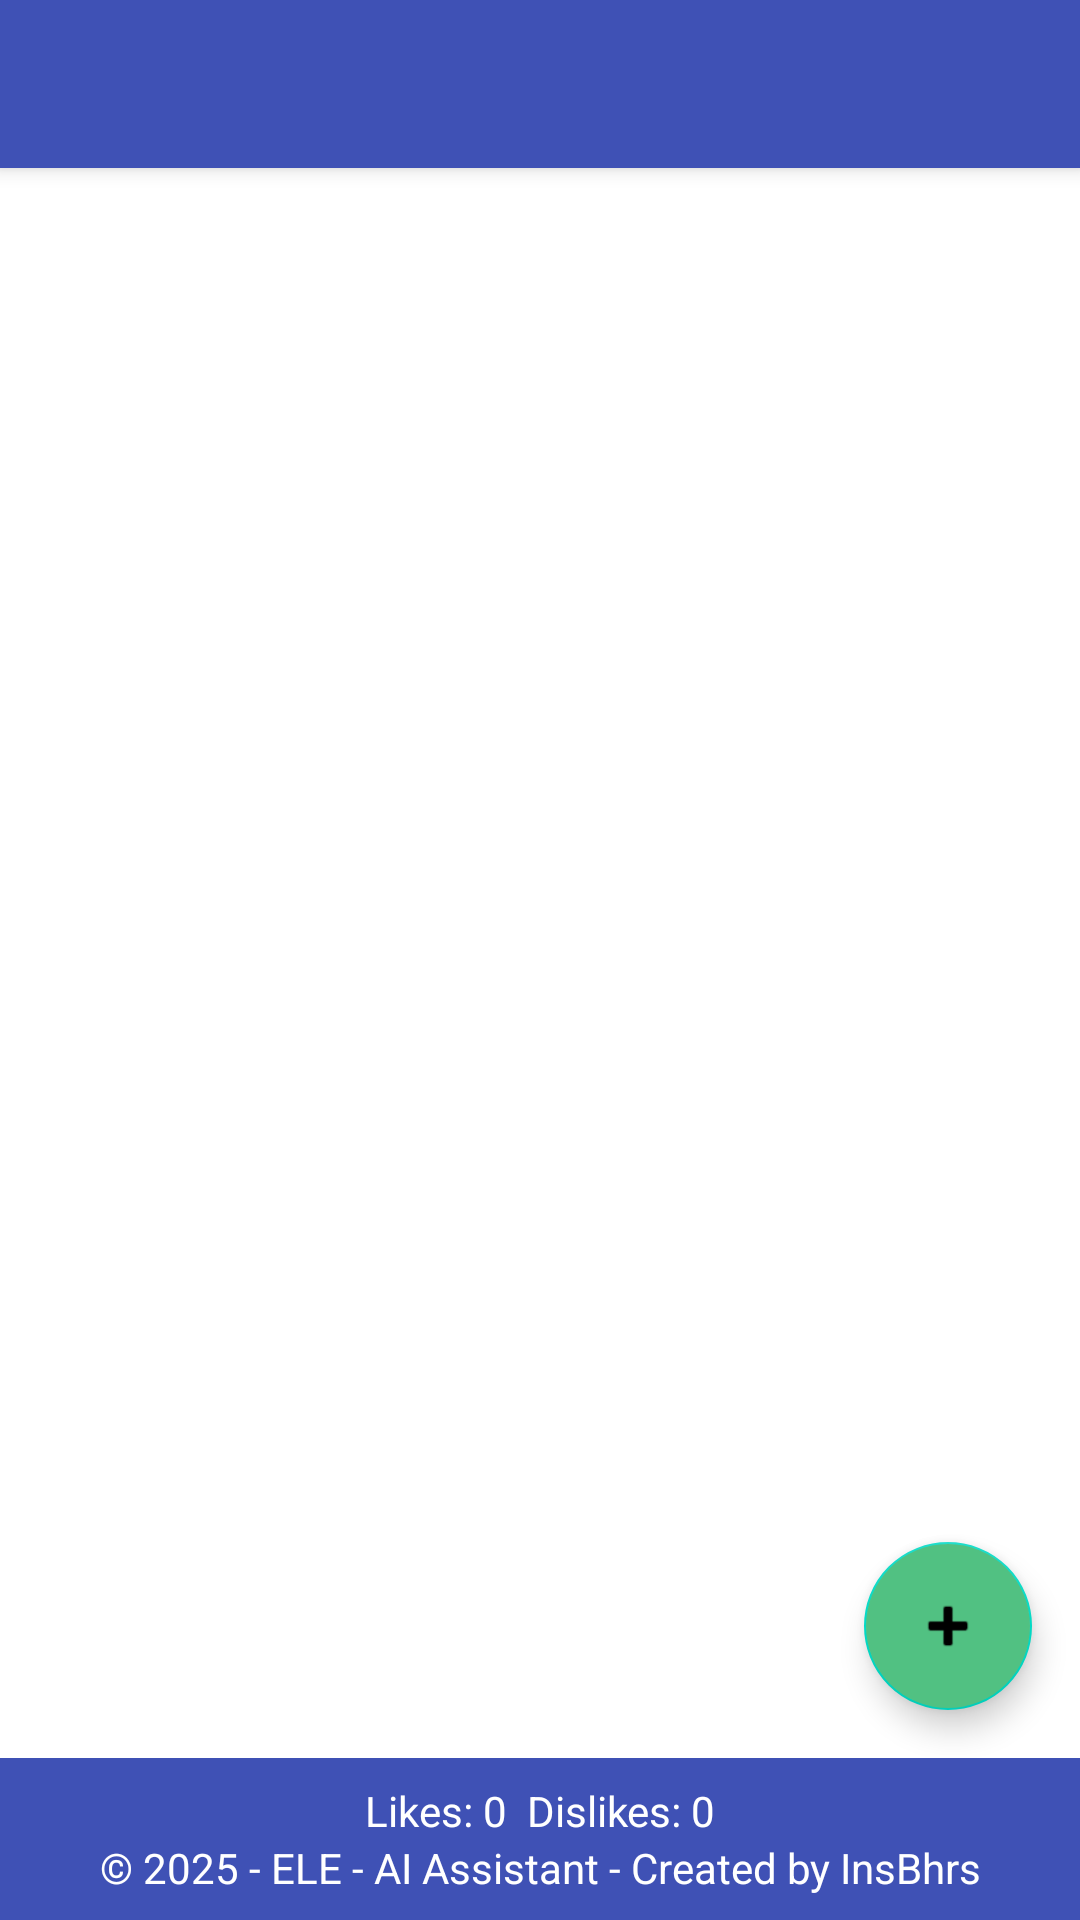

Where to tap for icons on this 1080w x 1920h app screen, as point (x, y):
Add Conversation: point (948, 1626)
